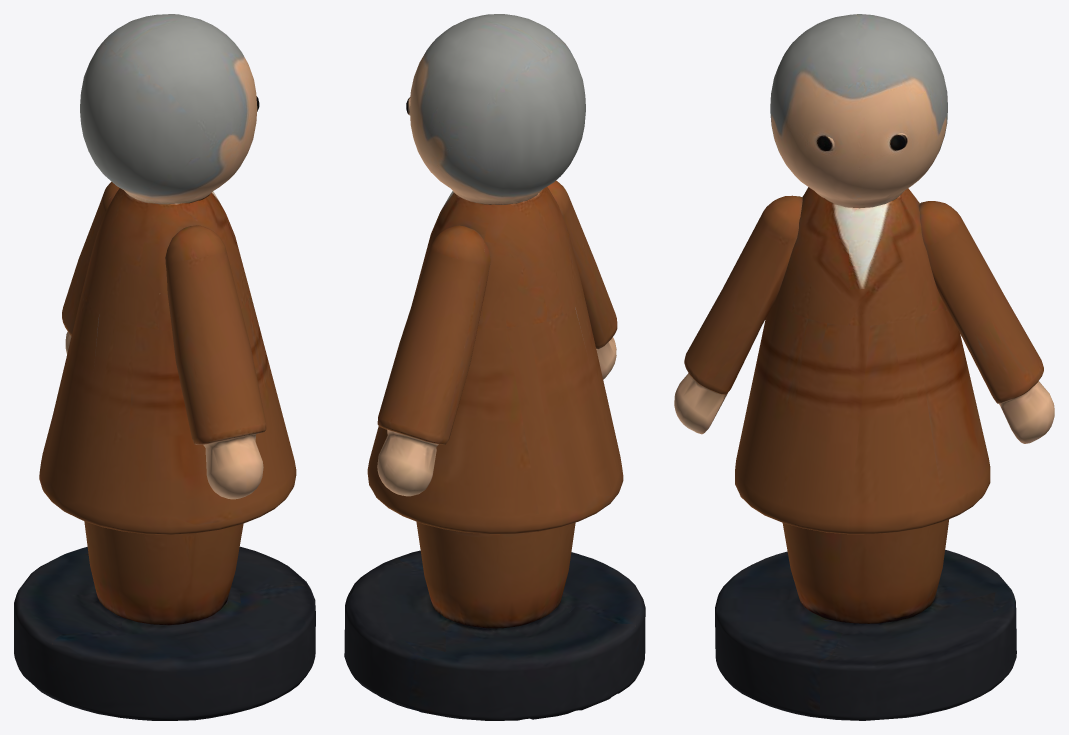
File: person_clerk.glb
3 renders of one model, left to right at view 1: azimuth 30°, elevation 25°; view 2: azimuth 150°, elevation 25°; view 3: azimuth 270°, elevation 25°, orthographic.
Visible parts, largest first — view 1: tripo_node_9d42eefa-9023-4fe5-b599-7ffc8c92e3c1; view 2: tripo_node_9d42eefa-9023-4fe5-b599-7ffc8c92e3c1; view 3: tripo_node_9d42eefa-9023-4fe5-b599-7ffc8c92e3c1.
Boxes of the visible parts, x1,y1,x2,y2 form: tripo_node_9d42eefa-9023-4fe5-b599-7ffc8c92e3c1: (14, 14, 315, 720); tripo_node_9d42eefa-9023-4fe5-b599-7ffc8c92e3c1: (344, 14, 645, 720); tripo_node_9d42eefa-9023-4fe5-b599-7ffc8c92e3c1: (674, 14, 1054, 720).
Size of the model in its own units: 0.4272 by 0.9995 by 0.5396.
Materials: 1 (1 with a texture image).
